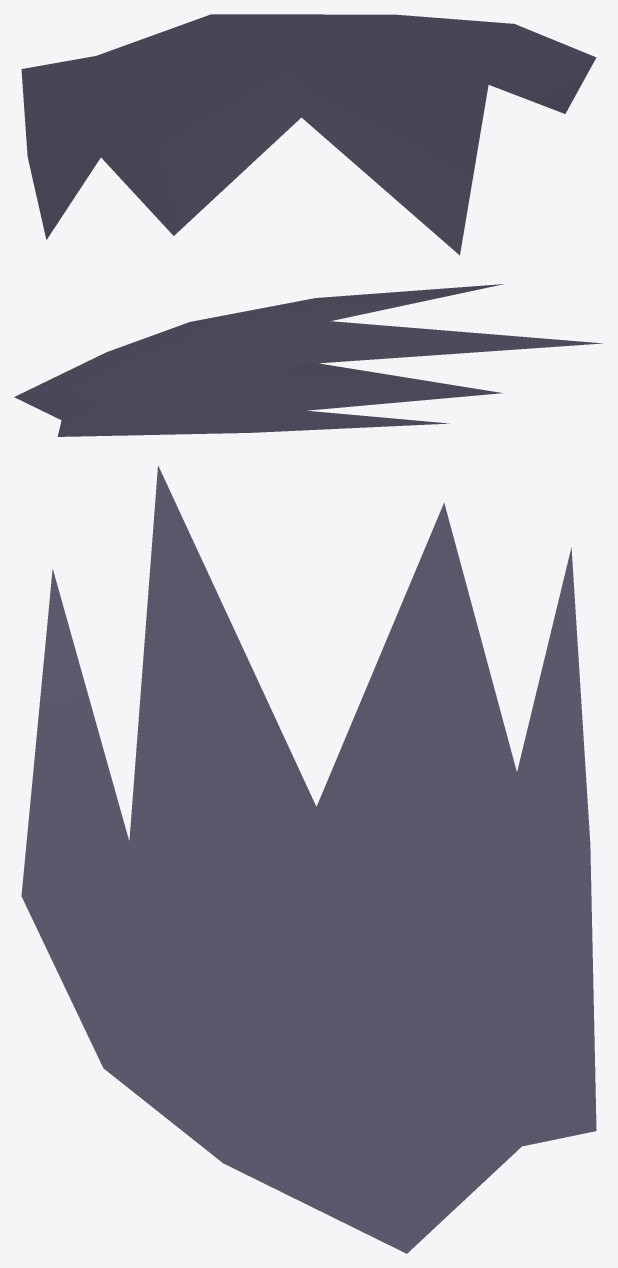
Rendered from FB_Quad.fbx.
3 views of the same model, one above another, from view 1: azimuth 90°, elevation 25°; view 2: azimuth 150°, elevation 25°; view 3: azimuth 270°, elevation 25° (orthographic). The views are drawn at different scales.
Visible parts, largest first — view 1: pPlane3; view 2: pPlane3; view 3: pPlane3.
Part boxes in pixels (box(x1,y1,x2,y2)): pPlane3: box(21, 14, 596, 255); pPlane3: box(14, 284, 602, 436); pPlane3: box(21, 465, 596, 1253).
Size of the model in its own units: 332 by 87.93 by 156.
